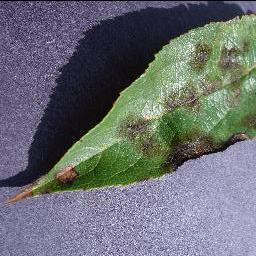apple scab disease: (5, 9, 255, 205)
